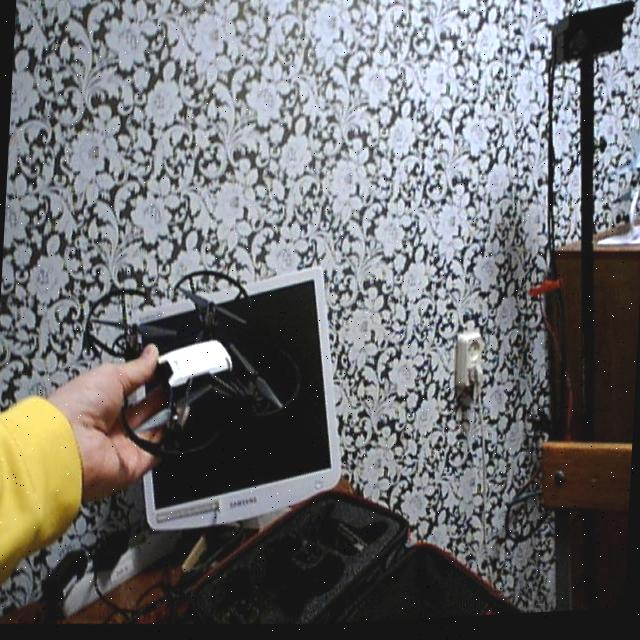drone: (68, 251, 317, 488)
